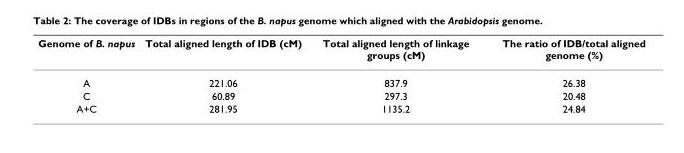table: (37, 36, 644, 114)
table column: (311, 36, 485, 114), (139, 36, 311, 114), (485, 36, 644, 114), (37, 36, 139, 114)
table column header: (37, 36, 644, 68)
table row: (37, 36, 644, 68), (37, 68, 644, 89), (37, 101, 644, 114), (37, 89, 644, 101)
